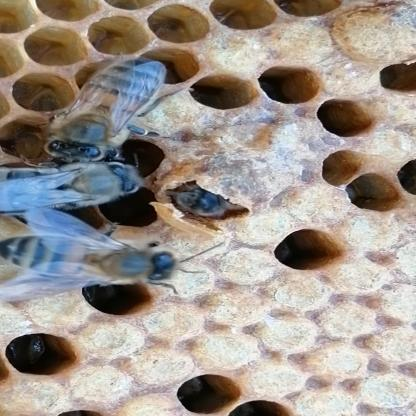bee: (0, 200, 334, 312), (18, 58, 225, 180), (0, 151, 324, 217)
